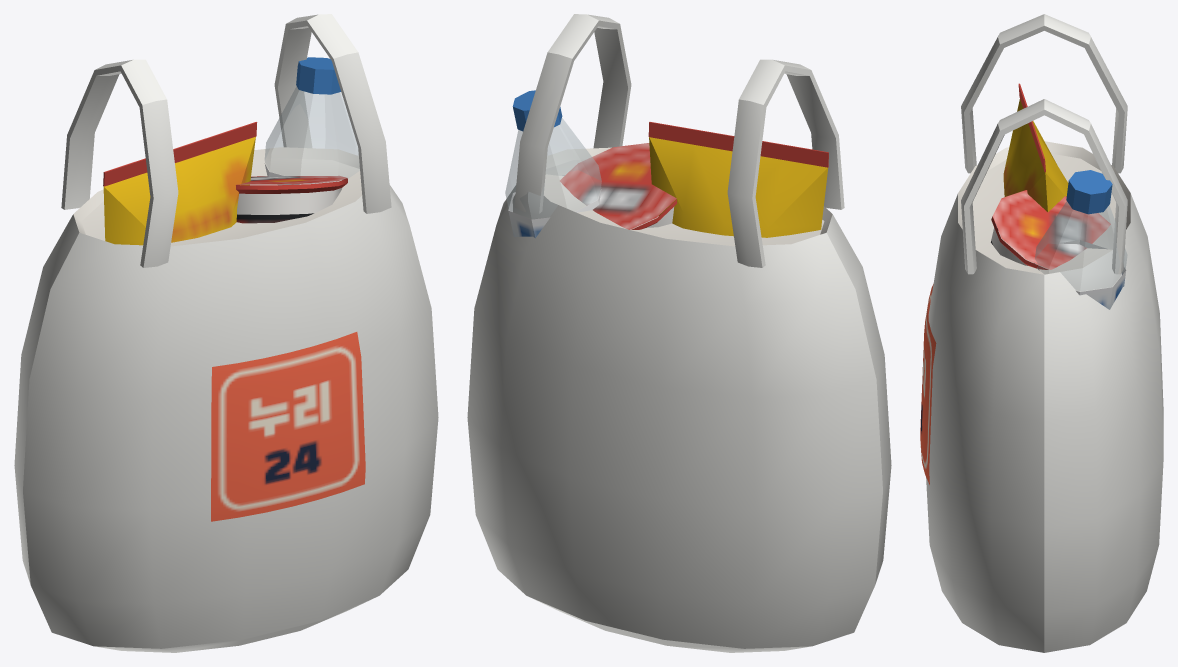
The model's file is SC_Prod_Shopping_Bag_White.gltf.
3 views of the same model, side by side, from view 1: azimuth 30°, elevation 25°; view 2: azimuth 150°, elevation 25°; view 3: azimuth 270°, elevation 25° (orthographic). The views are drawn at different scales.
Visible parts, largest first — view 1: SC_Prod_Shopping_Bag_White; view 2: SC_Prod_Shopping_Bag_White; view 3: SC_Prod_Shopping_Bag_White.
Boxes of the visible parts, left/top/right/bottom form: SC_Prod_Shopping_Bag_White: left=14, top=14, right=438, bottom=652; SC_Prod_Shopping_Bag_White: left=467, top=14, right=891, bottom=652; SC_Prod_Shopping_Bag_White: left=920, top=14, right=1163, bottom=652.
Size of the model in its own units: 0.31 by 0.4142 by 0.1727.
3 materials, 3 textured.
